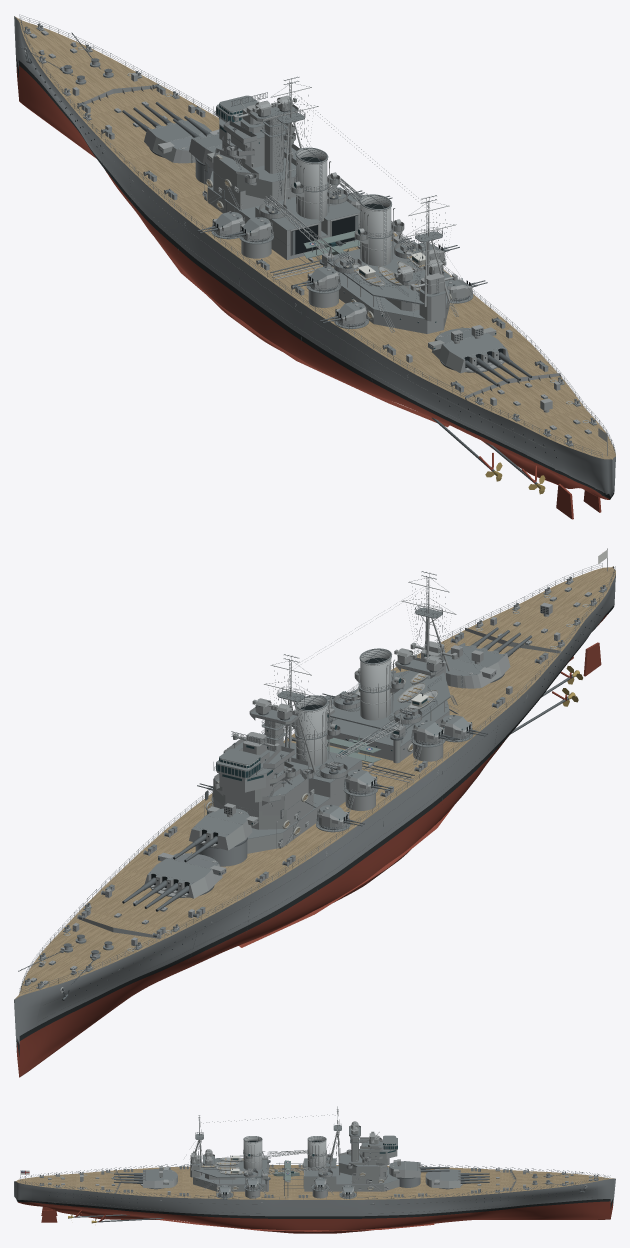
The model's file is king-george-v.glb.
3 renders of one model, top to bottom at view 1: azimuth 30°, elevation 25°; view 2: azimuth 150°, elevation 25°; view 3: azimuth 270°, elevation 25°, orthographic. The views are drawn at different scales.
Parts seen in each view (by area): view 1: KGV original section hull, deck-rails.mesh, main-y.yaw.mesh, after-shelter.mesh, forward-funnel.mesh, after-funnel.mesh, bridge-galleries.mesh, main-a.yaw.mesh, tower-middle.mesh, boat-deck.mesh, foremast.mesh, forecastle.mesh (+15 smaller); view 2: KGV original section hull, deck-rails.mesh, main-a.yaw.mesh, after-funnel.mesh, forward-funnel.mesh, bridge-galleries.mesh, main-y.yaw.mesh, boat-deck.mesh, after-shelter.mesh, main-b.yaw.mesh, forward-shelter.mesh, tower-middle.mesh (+13 smaller); view 3: KGV original section hull, deck-rails.mesh, forward-shelter.mesh, bridge-galleries.mesh, after-shelter.mesh, main-a.yaw.mesh, main-y.yaw.mesh, after-funnel.mesh, forward-funnel.mesh, tower-middle.mesh, boat-deck.mesh, main-b.yaw.mesh (+15 smaller).
Part boxes in pixels (x1=…): KGV original section hull: x1=14, y1=16, x2=615, y2=499; deck-rails.mesh: x1=19, y1=14, x2=615, y2=457; main-y.yaw.mesh: x1=428, y1=327, x2=509, y2=373; after-shelter.mesh: x1=338, y1=272, x2=449, y2=333; forward-funnel.mesh: x1=294, y1=147, x2=330, y2=221; after-funnel.mesh: x1=358, y1=194, x2=395, y2=266; bridge-galleries.mesh: x1=202, y1=120, x2=299, y2=212; main-a.yaw.mesh: x1=144, y1=117, x2=219, y2=163; tower-middle.mesh: x1=213, y1=145, x2=296, y2=200; boat-deck.mesh: x1=327, y1=241, x2=450, y2=304; foremast.mesh: x1=263, y1=76, x2=335, y2=212; forecastle.mesh: x1=18, y1=32, x2=561, y2=400; KGV original section hull: x1=14, y1=566, x2=615, y2=1077; deck-rails.mesh: x1=19, y1=563, x2=615, y2=993; main-a.yaw.mesh: x1=144, y1=852, x2=226, y2=898; after-funnel.mesh: x1=358, y1=648, x2=394, y2=720; forward-funnel.mesh: x1=294, y1=695, x2=331, y2=767; bridge-galleries.mesh: x1=204, y1=737, x2=316, y2=848; main-y.yaw.mesh: x1=445, y1=643, x2=510, y2=688; boat-deck.mesh: x1=330, y1=670, x2=450, y2=731; after-shelter.mesh: x1=329, y1=700, x2=449, y2=761; main-b.yaw.mesh: x1=189, y1=806, x2=258, y2=850; forward-shelter.mesh: x1=247, y1=788, x2=345, y2=853; tower-middle.mesh: x1=213, y1=757, x2=308, y2=815; KGV original section hull: x1=14, y1=1165, x2=615, y2=1233; deck-rails.mesh: x1=20, y1=1163, x2=610, y2=1199; forward-shelter.mesh: x1=304, y1=1166, x2=399, y2=1191; bridge-galleries.mesh: x1=346, y1=1137, x2=388, y2=1191; after-shelter.mesh: x1=193, y1=1169, x2=267, y2=1191; main-a.yaw.mesh: x1=425, y1=1169, x2=462, y2=1188; main-y.yaw.mesh: x1=140, y1=1167, x2=177, y2=1188; after-funnel.mesh: x1=243, y1=1136, x2=262, y2=1170; forward-funnel.mesh: x1=307, y1=1136, x2=326, y2=1170; tower-middle.mesh: x1=338, y1=1151, x2=386, y2=1176; boat-deck.mesh: x1=194, y1=1158, x2=267, y2=1177; main-b.yaw.mesh: x1=389, y1=1160, x2=421, y2=1177.
Size of the model in its own units: 36.07 by 46.64 by 227.
Materials: 15 (1 with a texture image).
